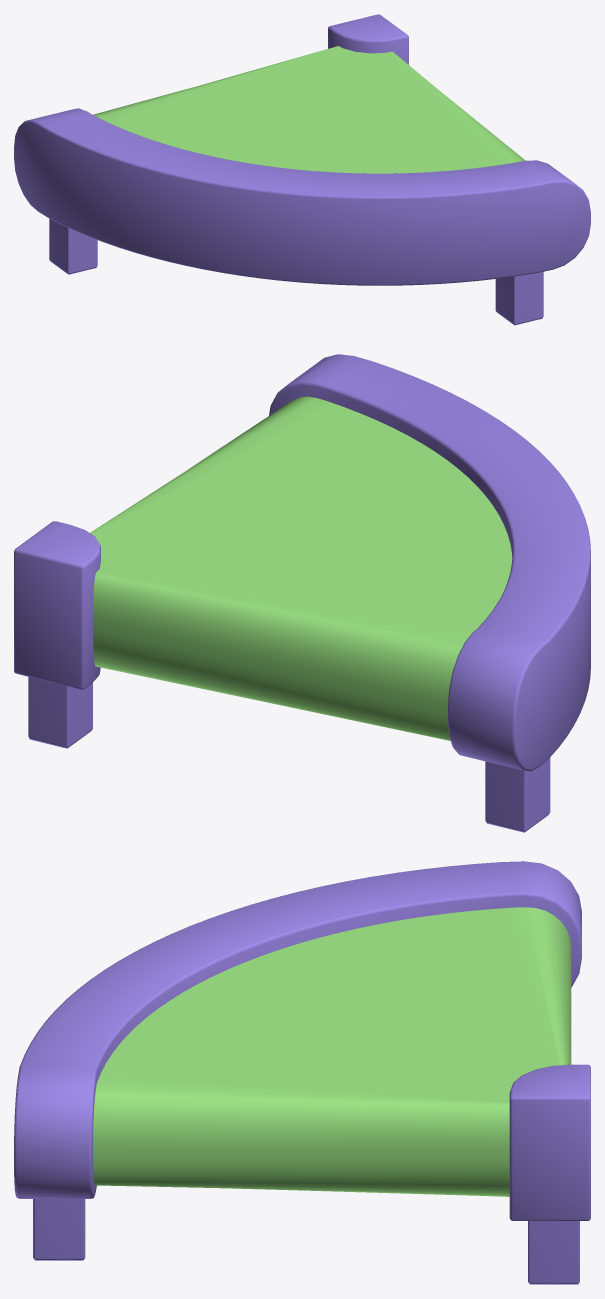
Rendered from TasmociagZakretPoprawiony.fbx.
The picture shows the model from 3 angles, top to bottom: view 1: azimuth 30°, elevation 25°; view 2: azimuth 150°, elevation 25°; view 3: azimuth 270°, elevation 25°; orthographic projection. The views are drawn at different scales.
Visible parts, largest first — view 1: Cube.003; view 2: Cube.003; view 3: Cube.003.
Part boxes in pixels (x1,y1,x2,y2): Cube.003: [14, 14, 590, 325]; Cube.003: [14, 354, 590, 832]; Cube.003: [14, 861, 590, 1284].
Bounding box in the file's own units: 91.58 × 33.91 × 92.31.
